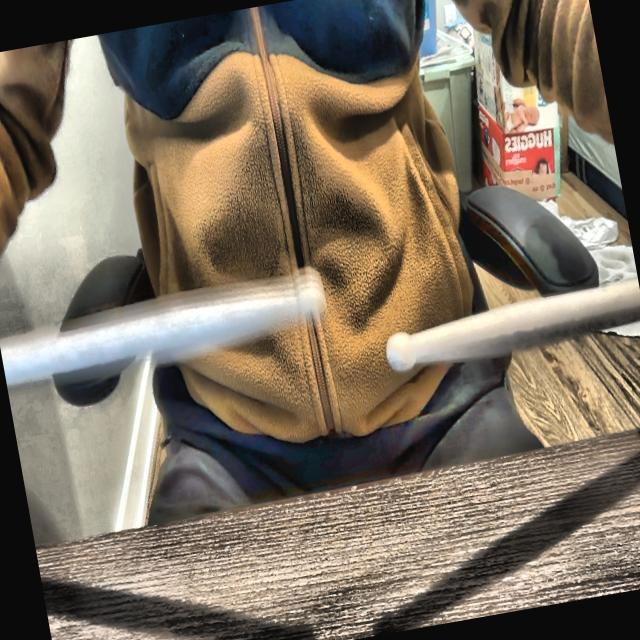Drumstick-Heads: (286, 246, 336, 332), (378, 318, 419, 387)
